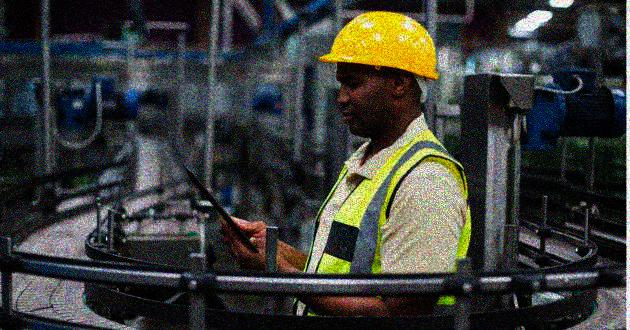helmet: (318, 9, 442, 135)
